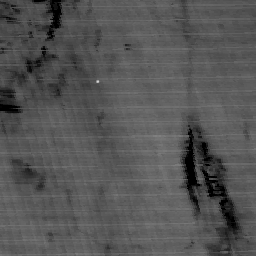Target: (95, 78, 100, 83)
